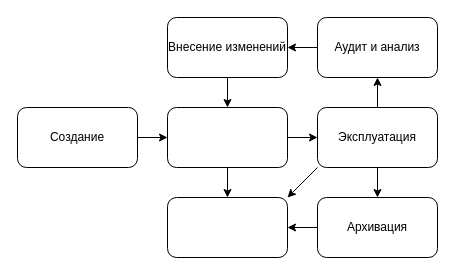
This 455x275 diagram has some shape labels left out. Each missing label, with the centre of its shape:
Уничтожение: the point at 227,227
Утверждение: the point at 227,137
